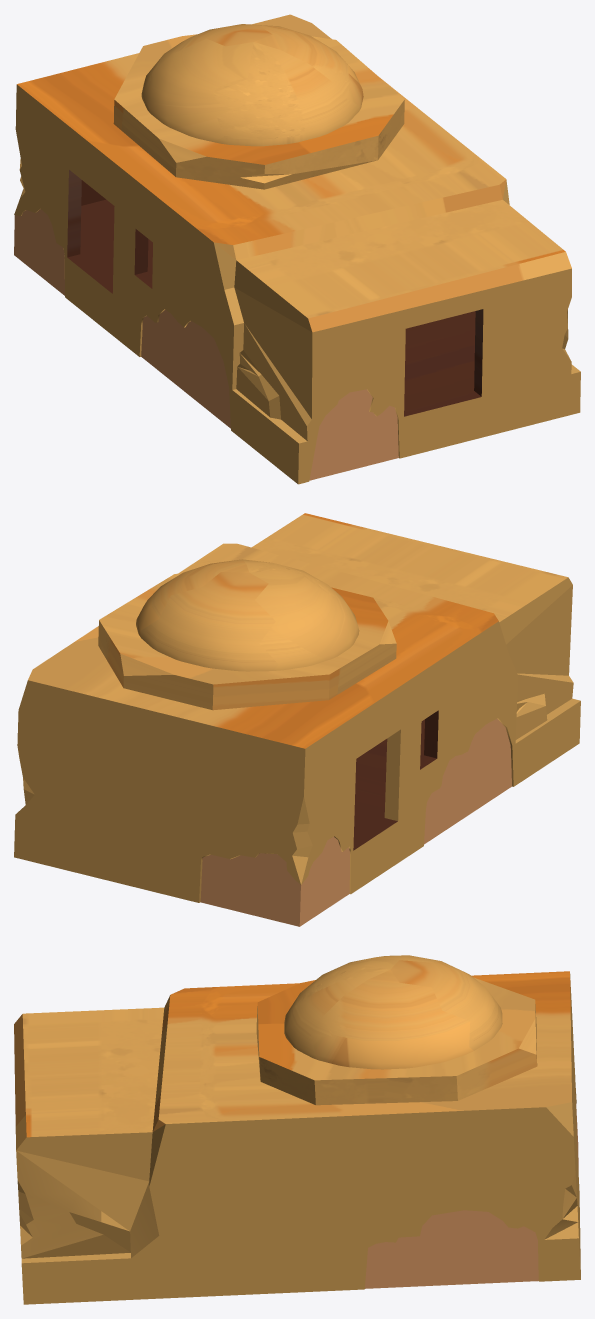
Rendered from Tunisia_House_C.fbx.
3 views of the same model, one above another, from view 1: azimuth 30°, elevation 25°; view 2: azimuth 150°, elevation 25°; view 3: azimuth 270°, elevation 25° (orthographic).
Visible parts, largest first — view 1: Tunisia_House_C; view 2: Tunisia_House_C; view 3: Tunisia_House_C.
Part boxes in pixels (x1,y1,x2,y2): Tunisia_House_C: [14, 14, 580, 484]; Tunisia_House_C: [14, 513, 580, 926]; Tunisia_House_C: [14, 955, 580, 1304].
Bounding box in the file's own units: 646 × 583 × 1114.
